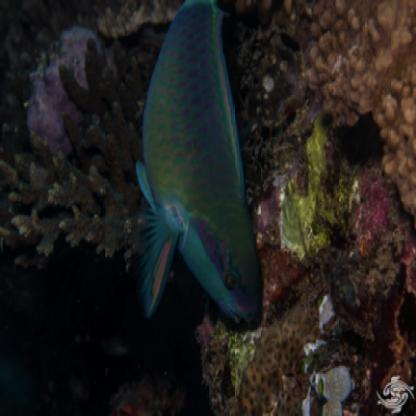Scaridae -Parrotfishes-: (130, 3, 267, 336)
